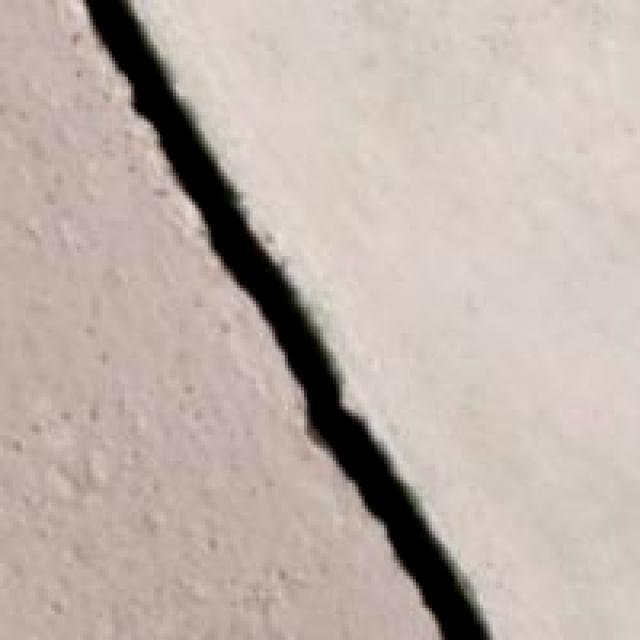crack: (68, 0, 536, 640)
